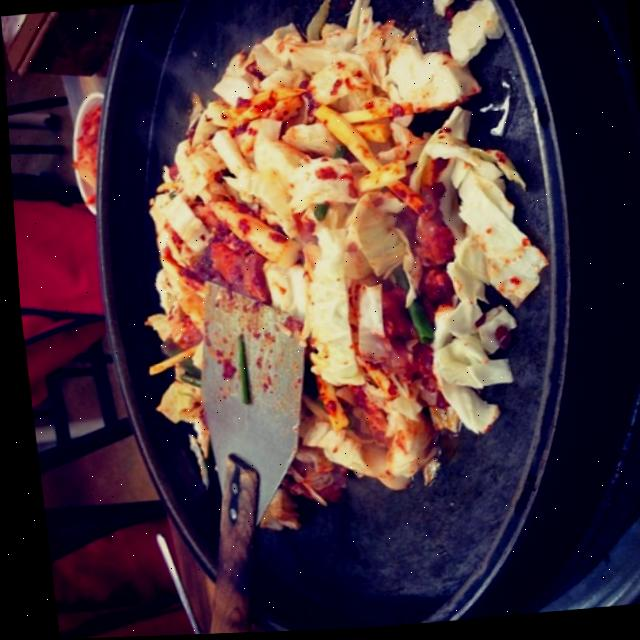鸡肉料理 含炸鸡: (58, 0, 618, 555)
